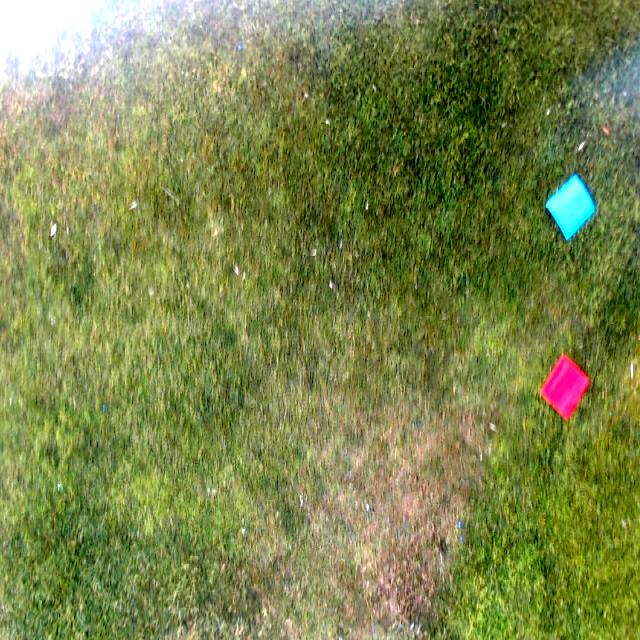blue_square: (544, 173, 597, 241)
red_square: (538, 355, 590, 421)
